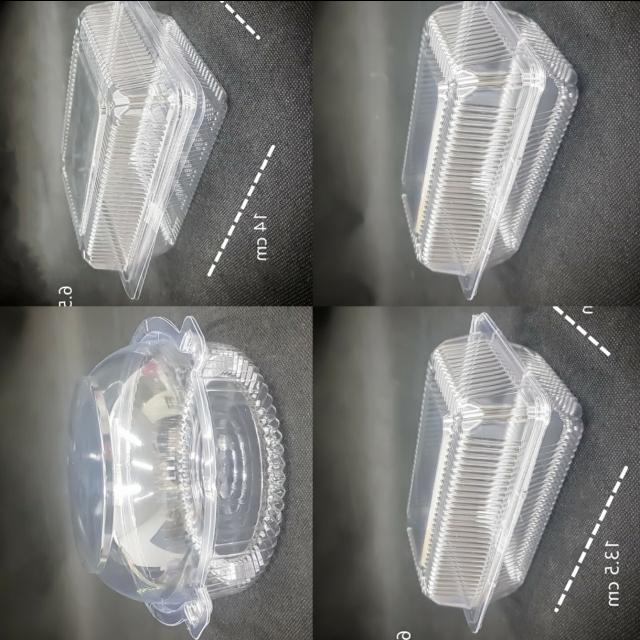plastik: (69, 316, 284, 636), (407, 312, 582, 631), (402, 0, 578, 299), (62, 0, 227, 297)
